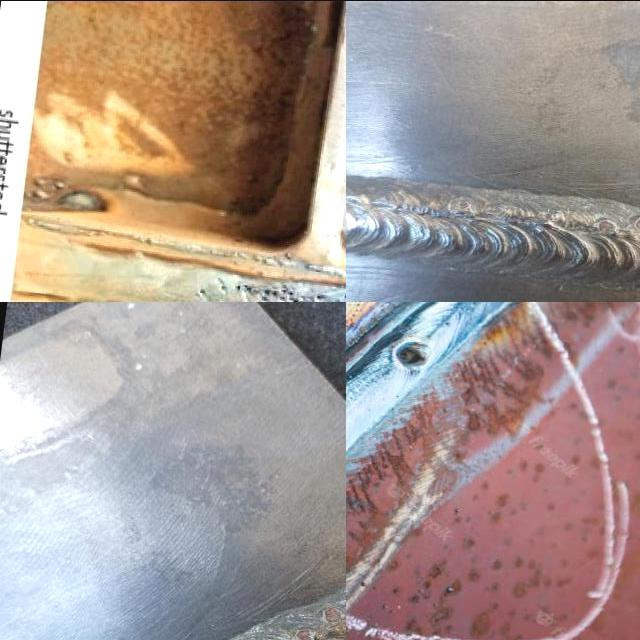defect: (193, 278, 306, 301), (391, 339, 432, 373), (486, 201, 513, 221), (321, 605, 346, 626), (452, 199, 476, 219), (292, 625, 324, 640), (593, 220, 621, 237), (633, 214, 640, 232)
